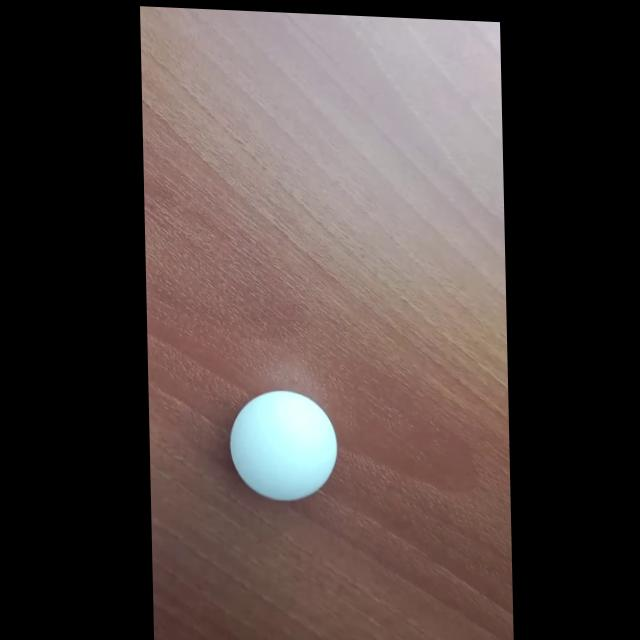white ball: (228, 388, 339, 505)
